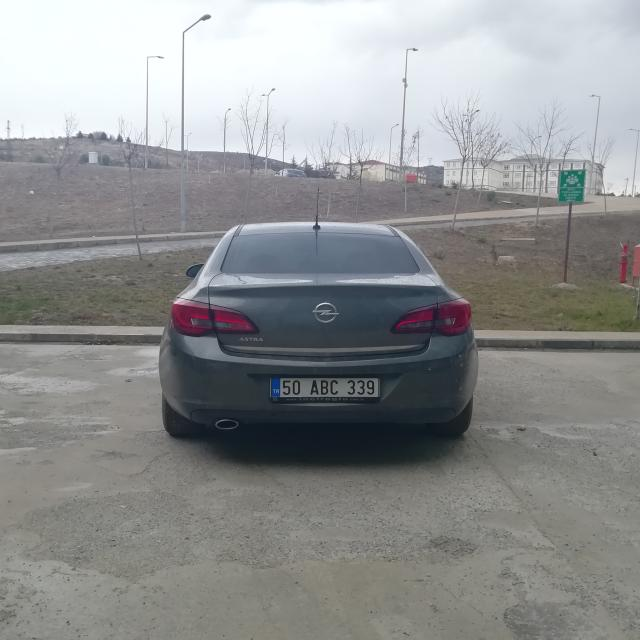license_plate: (270, 378, 379, 400)
